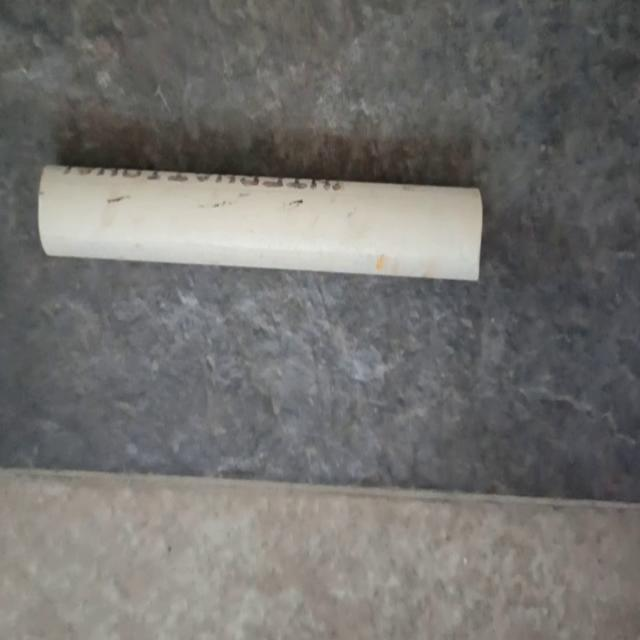Cube: (36, 160, 484, 284)
